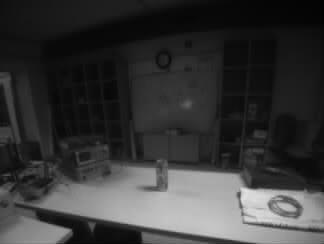Tin can: (156, 159, 168, 191)
